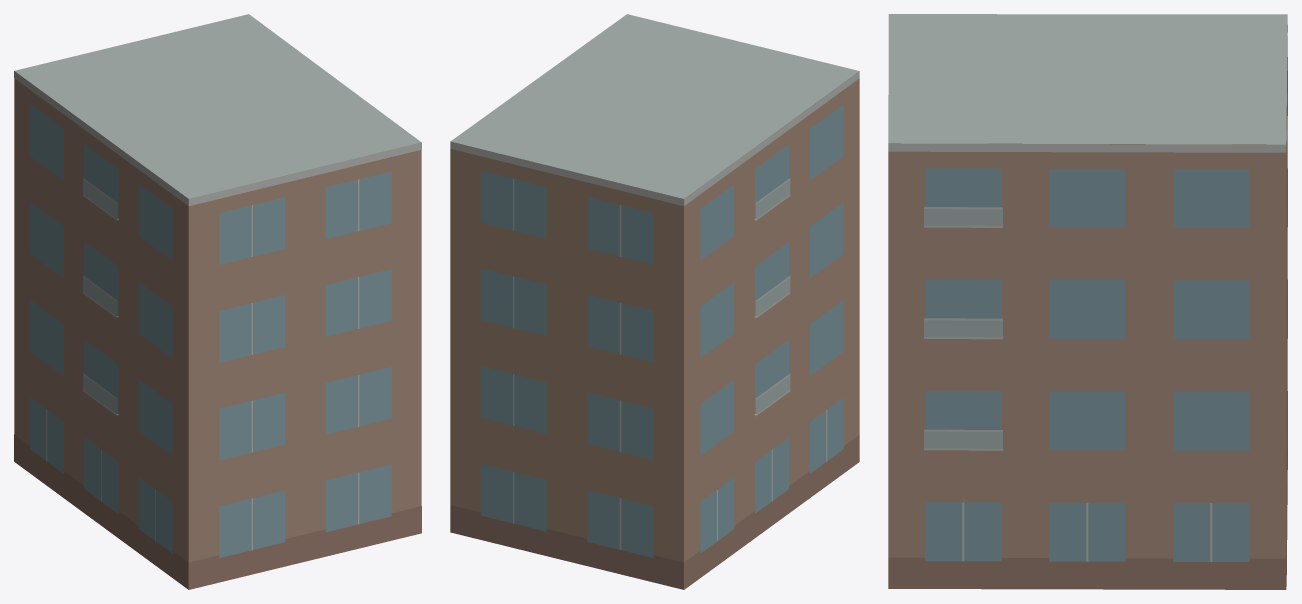
The model's file is survey-upis-32782144.glb.
3 views of the same model, side by side, from view 1: azimuth 30°, elevation 25°; view 2: azimuth 150°, elevation 25°; view 3: azimuth 270°, elevation 25° (orthographic). The views are drawn at different scales.
Visible parts, largest first — view 1: survey-upis-32782144.tmp; view 2: survey-upis-32782144.tmp; view 3: survey-upis-32782144.tmp.
Part boxes in pixels (x1=…): survey-upis-32782144.tmp: x1=14, y1=14, x2=421, y2=589; survey-upis-32782144.tmp: x1=450, y1=14, x2=859, y2=589; survey-upis-32782144.tmp: x1=888, y1=14, x2=1287, y2=589.
Size of the model in its own units: 8.27 by 13.1 by 10.66.
